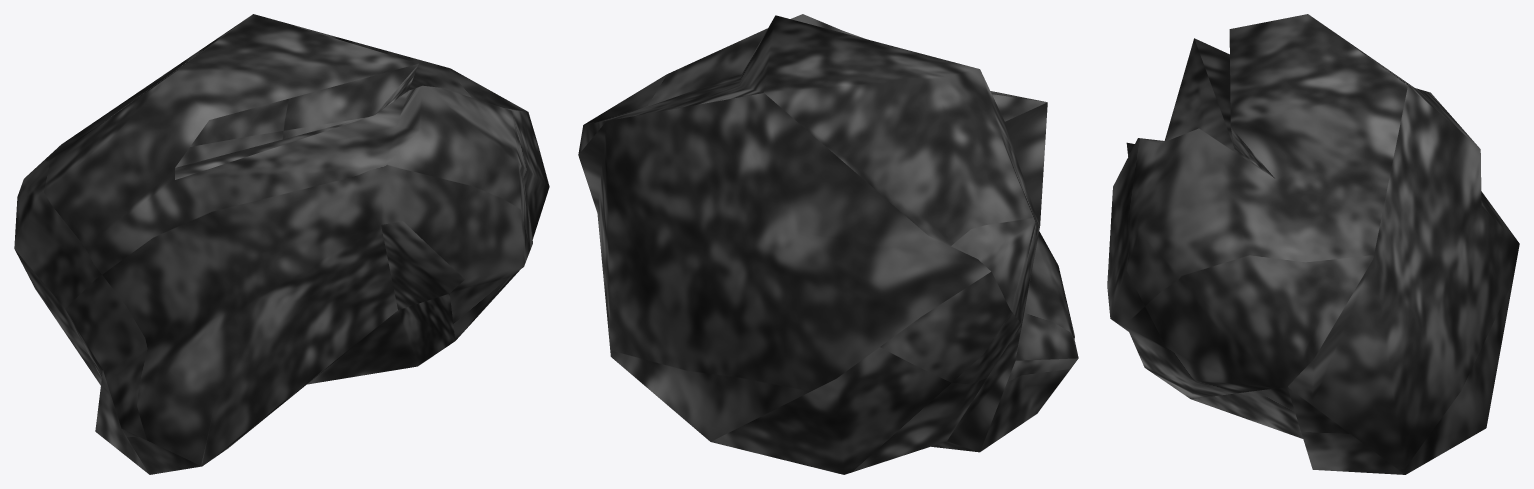
File: shi4.FBX
3 views of the same model, side by side, from view 1: azimuth 30°, elevation 25°; view 2: azimuth 150°, elevation 25°; view 3: azimuth 270°, elevation 25° (orthographic). The views are drawn at different scales.
Parts seen in each view (by area): view 1: stone_05_02; view 2: stone_05_02; view 3: stone_05_02.
Part boxes in pixels (box(x1,y1,x2,y2)): stone_05_02: box(14, 14, 549, 474); stone_05_02: box(578, 14, 1078, 474); stone_05_02: box(1107, 14, 1519, 474).
Bounding box in the file's own units: 864 × 639 × 637.
